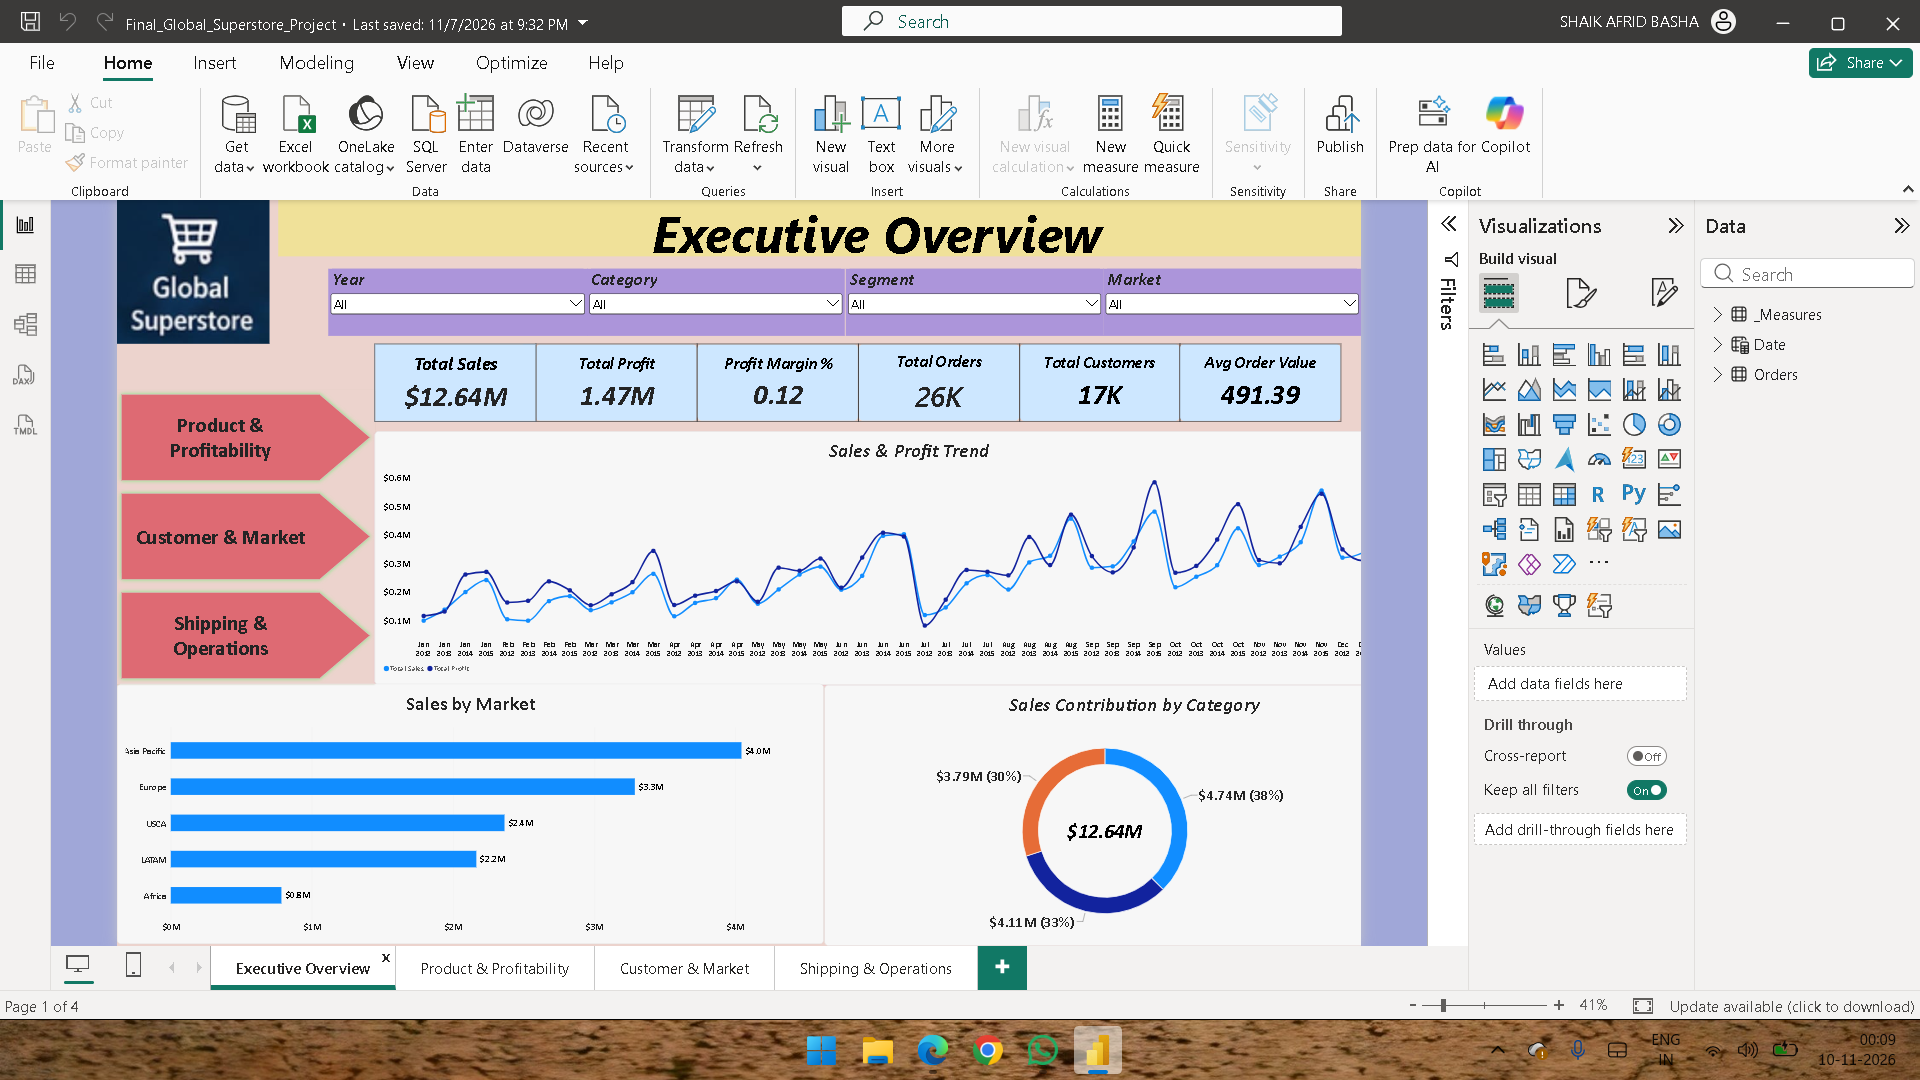

Layout of this report page (visuals, bound fields, positions):
{"tool":"powerbi","page":{"name":"Executive Overview","canvas":[2400,1440],"ordinal":0},"visuals":[{"type":"cardVisual","fields":{"Data":["_Measures.Total Profit"]},"box":[808.3,278.5,312,150],"z":0},{"type":"cardVisual","fields":{"Data":["_Measures.Total Orders"]},"box":[1430.1,278.5,312,150.9],"z":1000},{"type":"cardVisual","fields":{"Data":["_Measures.Total Customers"]},"box":[1741,278.5,310.9,150],"z":2000},{"type":"cardVisual","fields":{"Data":["_Measures.Avg Order Value"]},"box":[2051.9,278.5,312,150],"z":3000},{"type":"cardVisual","fields":{"Data":["_Measures.Profit Margin %"]},"box":[1119.2,278.5,312,150],"z":4000},{"type":"lineChart","title":"Sales & Profit Trend","fields":{"Category":["Date.Year-Month"],"Y":["_Measures.Total Sales"],"Y2":["_Measures.Total Profit"]},"box":[497.4,446.1,2062.7,489.3],"z":5000},{"type":"clusteredBarChart","title":"Sales by Market","fields":{"Category":["Orders.Market"],"Y":["_Measures.Total Sales"]},"box":[0,934.7,1364.2,502.1],"z":6000},{"type":"donutChart","title":"Sales Contribution by Category","fields":{"Category":["Orders.Category"],"Y":["_Measures.Total Sales"]},"box":[1365.2,935.4,1194.9,502.8],"z":7000},{"type":"cardVisual","fields":{"Data":["_Measures.Total Sales"]},"box":[497.4,278.5,312,150],"z":8000},{"type":"shape","box":[311.9,0,2247.1,109],"z":11000},{"type":"textbox","box":[354.3,0,2204.7,109],"z":12000},{"type":"image","box":[0,0,294.4,277.5],"z":16000},{"type":"pageNavigator","box":[0,367.7,497.4,567.7],"z":16001},{"type":"slicer","fields":{"Values":["Date.Year"]},"box":[408.2,132.5,500.1,129.8],"z":16002},{"type":"slicer","fields":{"Values":["Orders.Category"]},"box":[908.4,132.5,497.4,129.8],"z":16003},{"type":"slicer","fields":{"Values":["Orders.Segment"]},"box":[1405.8,132.5,497.4,129.8],"z":16004},{"type":"slicer","fields":{"Values":["Orders.Market"]},"box":[1903.2,132.5,497.4,129.8],"z":16005}]}

Visuals, with their boxes on the page's 2400x1440 design canvas (x1, y1, x2, y2). These are canvas units, not pixel positions in the 1920x1080 screenshot, which may show the page scaled, cropped or inside an application window:
cardVisual - _Measures.Total Profit: detection(808, 278, 1120, 428)
cardVisual - _Measures.Total Orders: detection(1430, 278, 1742, 429)
cardVisual - _Measures.Total Customers: detection(1741, 278, 2052, 428)
cardVisual - _Measures.Avg Order Value: detection(2052, 278, 2364, 428)
cardVisual - _Measures.Profit Margin %: detection(1119, 278, 1431, 428)
"Sales & Profit Trend" lineChart: detection(497, 446, 2560, 935)
"Sales by Market" clusteredBarChart: detection(0, 935, 1364, 1437)
"Sales Contribution by Category" donutChart: detection(1365, 935, 2560, 1438)
cardVisual - _Measures.Total Sales: detection(497, 278, 809, 428)
shape: detection(312, 0, 2559, 109)
textbox: detection(354, 0, 2559, 109)
image: detection(0, 0, 294, 278)
pageNavigator: detection(0, 368, 497, 935)
slicer - Date.Year: detection(408, 132, 908, 262)
slicer - Orders.Category: detection(908, 132, 1406, 262)
slicer - Orders.Segment: detection(1406, 132, 1903, 262)
slicer - Orders.Market: detection(1903, 132, 2401, 262)
